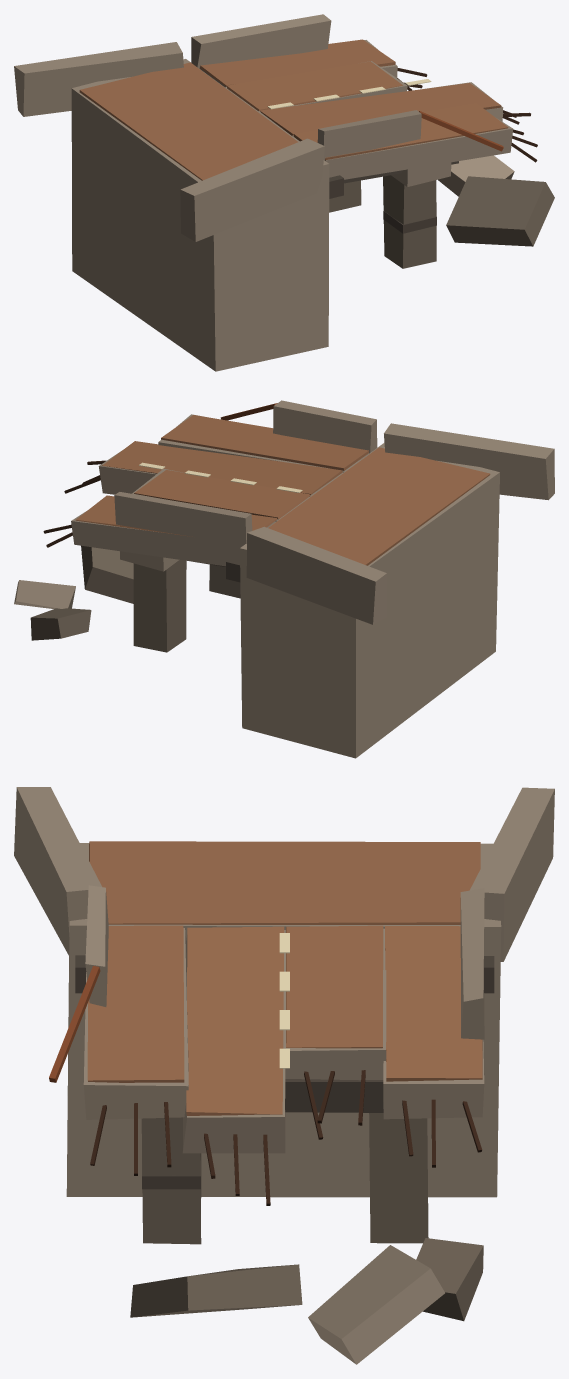
File: bridge_broken.glb
3 renders of one model, top to bottom at view 1: azimuth 30°, elevation 25°; view 2: azimuth 150°, elevation 25°; view 3: azimuth 270°, elevation 25°, orthographic. The views are drawn at different scales.
Parts seen in each view (by area): view 1: bridge_broken; view 2: bridge_broken; view 3: bridge_broken.
Boxes of the visible parts, x1,y1,x2,y2 form: bridge_broken: (14, 14, 554, 371); bridge_broken: (14, 400, 554, 758); bridge_broken: (14, 787, 554, 1364).
Bounding box in the file's own units: 13.2 × 6.17 × 9.55.
